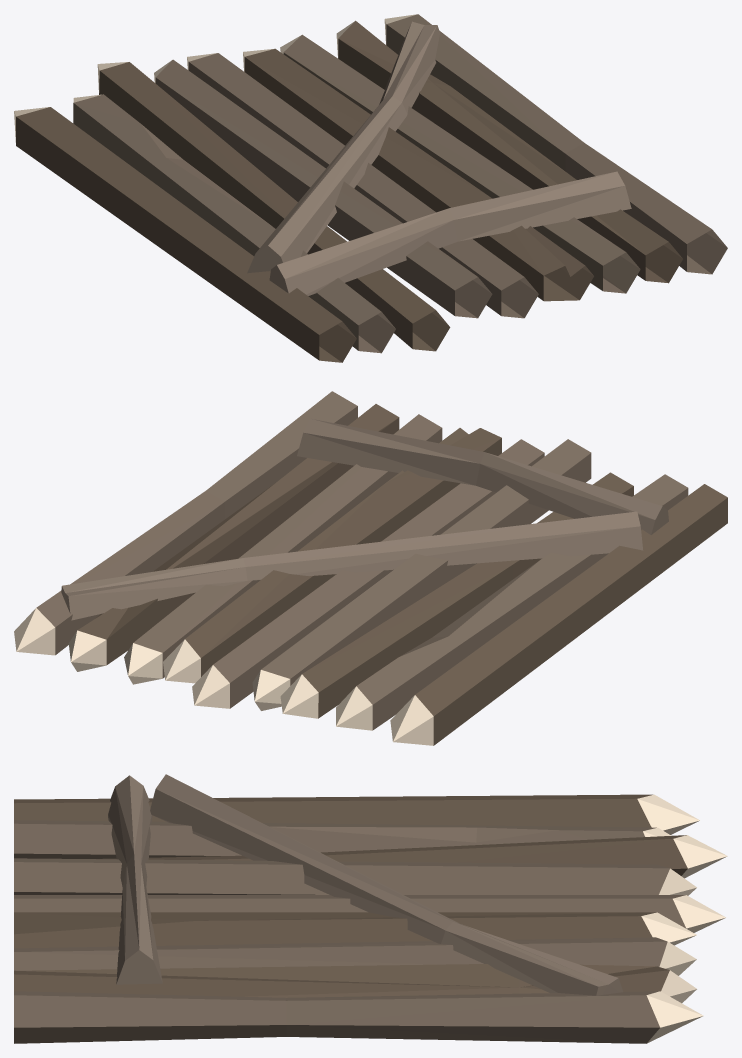
The model's file is fense_1.glb.
3 renders of one model, top to bottom at view 1: azimuth 30°, elevation 25°; view 2: azimuth 150°, elevation 25°; view 3: azimuth 270°, elevation 25°, orthographic. The views are drawn at different scales.
Parts seen in each view (by area): view 1: fense_1; view 2: fense_1; view 3: fense_1.
Part boxes in pixels (box(x1,y1,x2,y2)): fense_1: box(14, 14, 727, 362); fense_1: box(14, 391, 727, 745); fense_1: box(14, 774, 727, 1043).
Bounding box in the file's own units: 1.08 × 0.2133 × 1.5.
Materials: 1 (1 with a texture image).
